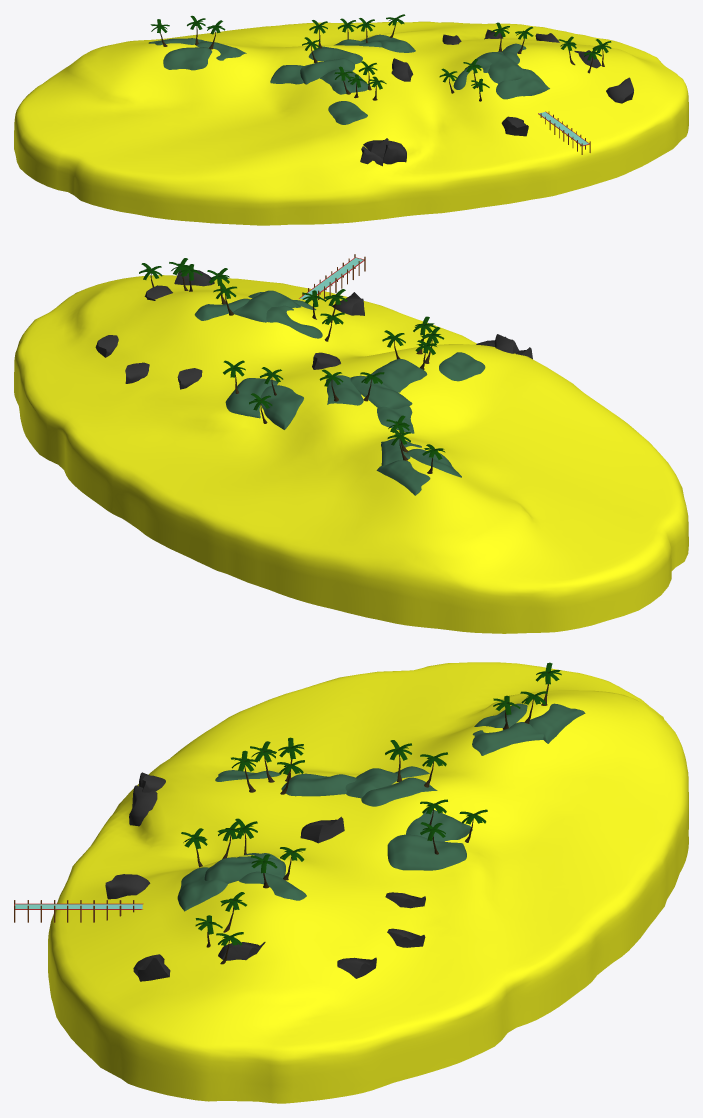
File: island_dock.fbx
The picture shows the model from 3 angles, top to bottom: view 1: azimuth 30°, elevation 25°; view 2: azimuth 150°, elevation 25°; view 3: azimuth 270°, elevation 25°; orthographic projection. The views are drawn at different scales.
Parts seen in each view (by area): view 1: sm_atoll, sm_foliage_011, sm_foliage_007, sm_foliage_009, sm_foliage_002, sm_foliage_001, sm_foliage_008, sm_foliage_003, sm_foliage_004, sm_foliage_013, sm_rock_009, sm_rock_001 (+4 smaller); view 2: sm_atoll, sm_foliage_014, sm_foliage_013, sm_foliage_001, sm_foliage_002, sm_foliage_009, sm_foliage_006, sm_foliage_008, sm_foliage_003, sm_foliage_010, sm_foliage_004, sm_foliage_012 (+1 smaller); view 3: sm_atoll, sm_foliage_013, sm_foliage_001, sm_foliage_005, sm_foliage_009, sm_foliage_011, sm_foliage_014, sm_foliage_003, sm_foliage_006, sm_foliage_002, sm_foliage_012, sm_rock_010 (+3 smaller).
Part boxes in pixels (box(x1,y1,x2,y2)): sm_atoll: box(14, 21, 688, 225); sm_foliage_011: box(496, 68, 549, 99); sm_foliage_007: box(163, 47, 212, 70); sm_foliage_009: box(476, 51, 524, 83); sm_foliage_002: box(300, 58, 354, 84); sm_foliage_001: box(320, 69, 368, 94); sm_foliage_008: box(328, 101, 367, 124); sm_foliage_003: box(308, 46, 362, 64); sm_foliage_004: box(270, 65, 303, 84); sm_foliage_013: box(361, 34, 415, 52); sm_rock_009: box(606, 77, 633, 103); sm_rock_001: box(383, 140, 406, 164); sm_atoll: box(14, 275, 688, 633); sm_foliage_014: box(260, 385, 303, 429); sm_foliage_013: box(225, 378, 277, 418); sm_foliage_001: box(371, 359, 427, 392); sm_foliage_002: box(350, 375, 412, 409); sm_foliage_009: box(233, 290, 300, 322); sm_foliage_006: box(376, 460, 430, 495); sm_foliage_008: box(439, 352, 485, 381); sm_foliage_003: box(326, 375, 363, 405); sm_foliage_010: box(266, 305, 322, 338); sm_foliage_004: box(377, 406, 414, 433); sm_foliage_012: box(194, 298, 250, 320); sm_atoll: box(48, 662, 688, 1103); sm_foliage_013: box(387, 834, 466, 870); sm_foliage_001: box(281, 773, 356, 796); sm_foliage_005: box(472, 722, 543, 755); sm_foliage_009: box(204, 857, 285, 883); sm_foliage_011: box(177, 867, 227, 911); sm_foliage_014: box(406, 810, 472, 841); sm_foliage_003: box(361, 777, 437, 806); sm_foliage_006: box(529, 703, 585, 743); sm_foliage_002: box(345, 768, 402, 798); sm_foliage_012: box(239, 871, 306, 900); sm_rock_010: box(105, 874, 150, 899).
Bounding box in the file's own units: 41011 × 29450 × 7043.
